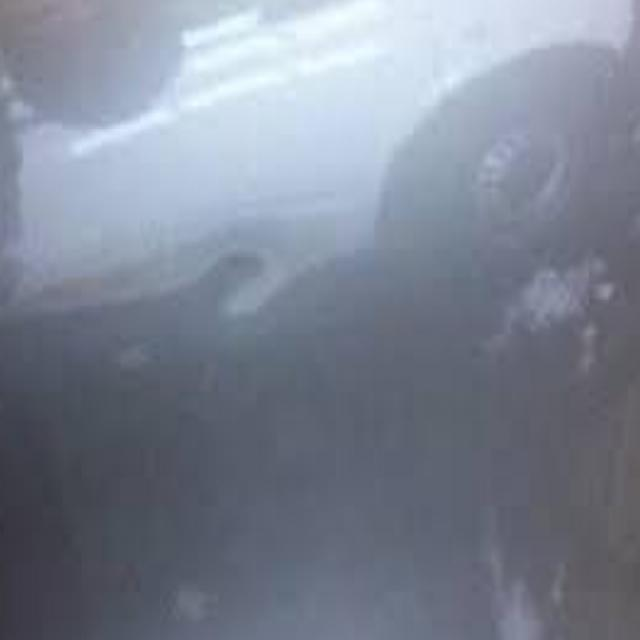dents: (195, 237, 306, 338)
